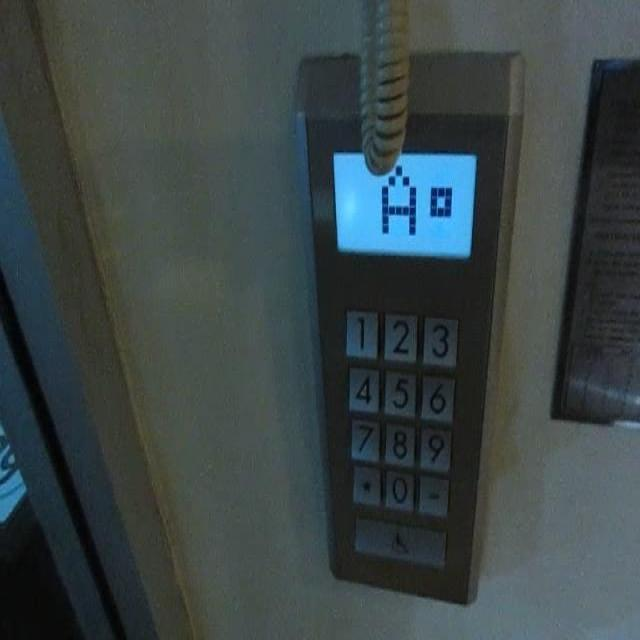-: (416, 471, 450, 518), (351, 460, 383, 507)
0: (384, 464, 415, 512)
1: (343, 305, 378, 363)
2: (382, 309, 419, 367)
3: (420, 311, 458, 372)
4: (346, 362, 381, 414)
5: (381, 367, 417, 421)
6: (417, 369, 454, 423)
7: (349, 413, 380, 464)
8: (382, 417, 415, 468)
9: (418, 422, 452, 474)
CH: (351, 510, 449, 570)
led: (330, 147, 476, 260)
